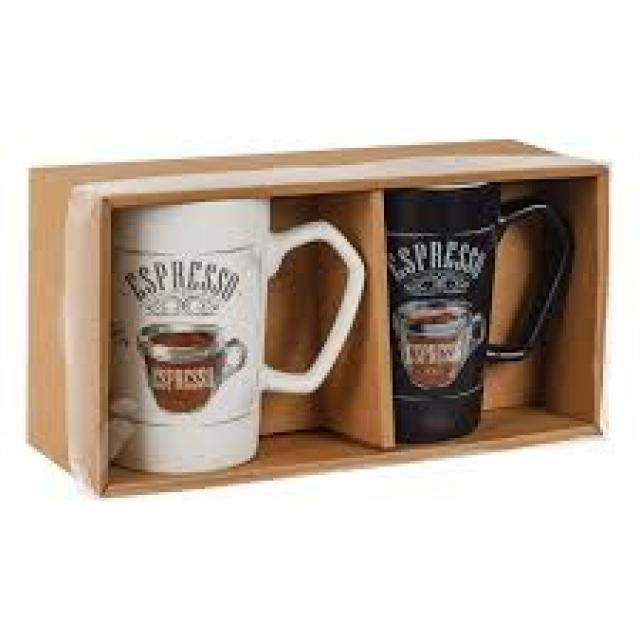taza: (95, 185, 373, 482), (384, 172, 580, 454)
